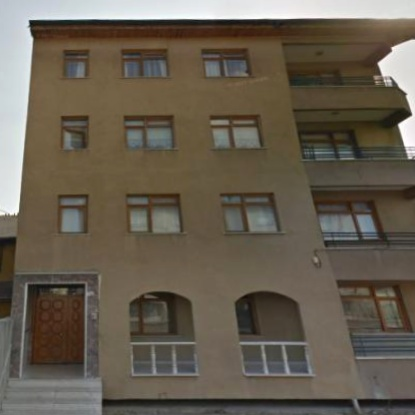door: (31, 288, 82, 362)
